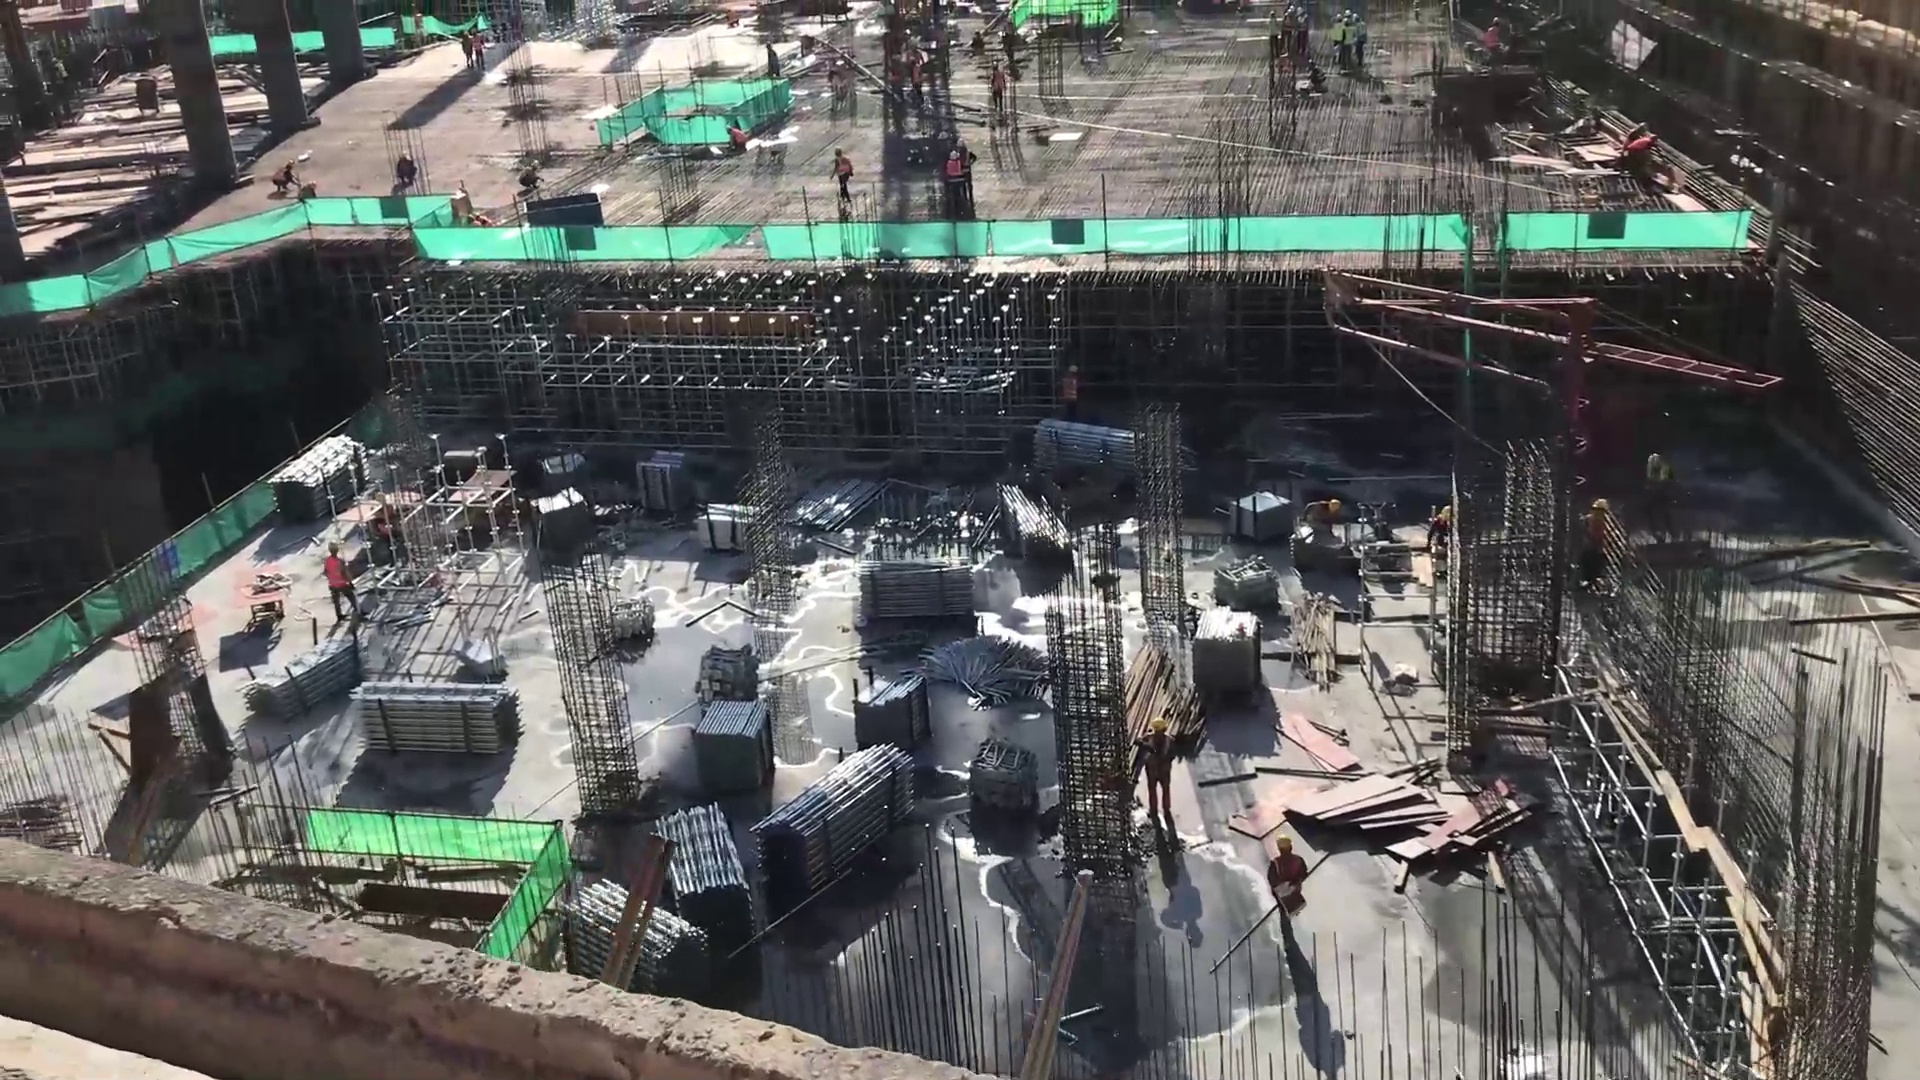helmet: (1646, 453, 1670, 478), (1586, 494, 1618, 512), (1275, 833, 1295, 851), (1150, 717, 1169, 734), (1328, 495, 1339, 515), (1441, 504, 1454, 520), (947, 147, 960, 159), (328, 540, 341, 551), (283, 158, 296, 168), (725, 122, 733, 132), (531, 160, 537, 168)
person: (1266, 830, 1312, 962), (1140, 716, 1178, 834), (1568, 499, 1613, 591), (321, 536, 360, 628), (1643, 451, 1681, 546), (265, 152, 300, 219), (828, 142, 856, 213), (1061, 356, 1085, 431), (1302, 492, 1341, 537), (1425, 504, 1454, 559), (958, 139, 977, 206), (1620, 116, 1647, 155), (760, 39, 782, 86), (394, 152, 417, 197), (946, 149, 961, 212), (724, 123, 748, 162), (518, 160, 544, 194), (989, 59, 1006, 111), (1339, 19, 1355, 69), (1629, 134, 1658, 163), (1487, 13, 1502, 66), (470, 27, 486, 70), (1354, 11, 1366, 71), (1296, 5, 1309, 57), (1331, 13, 1343, 64), (1268, 8, 1280, 56), (969, 30, 987, 61), (461, 32, 474, 70)
vest: (325, 555, 352, 592), (1630, 138, 1653, 156), (836, 158, 854, 179), (1488, 27, 1502, 51), (730, 128, 747, 148), (948, 159, 961, 182)
